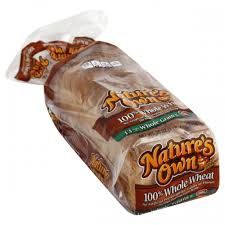bread: (13, 31, 222, 214)
